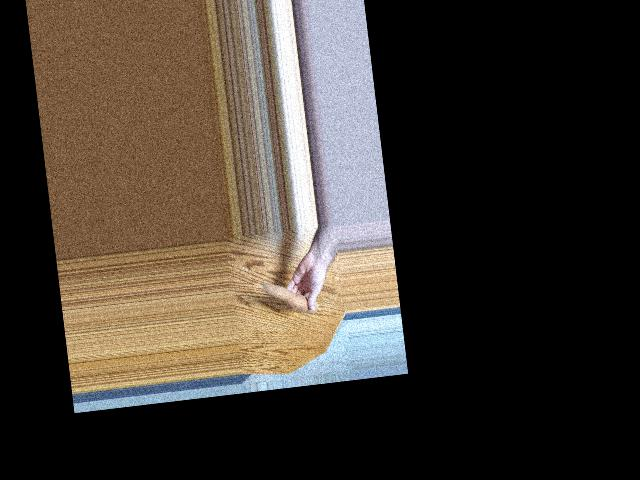sweet_potato: (262, 276, 320, 318)
